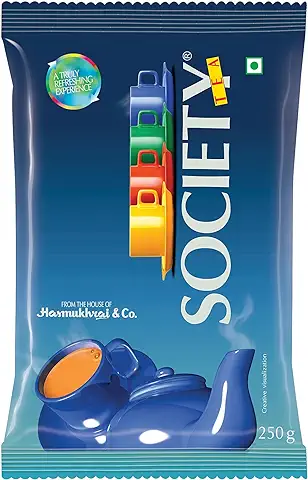Tea: (2, 1, 308, 480)
